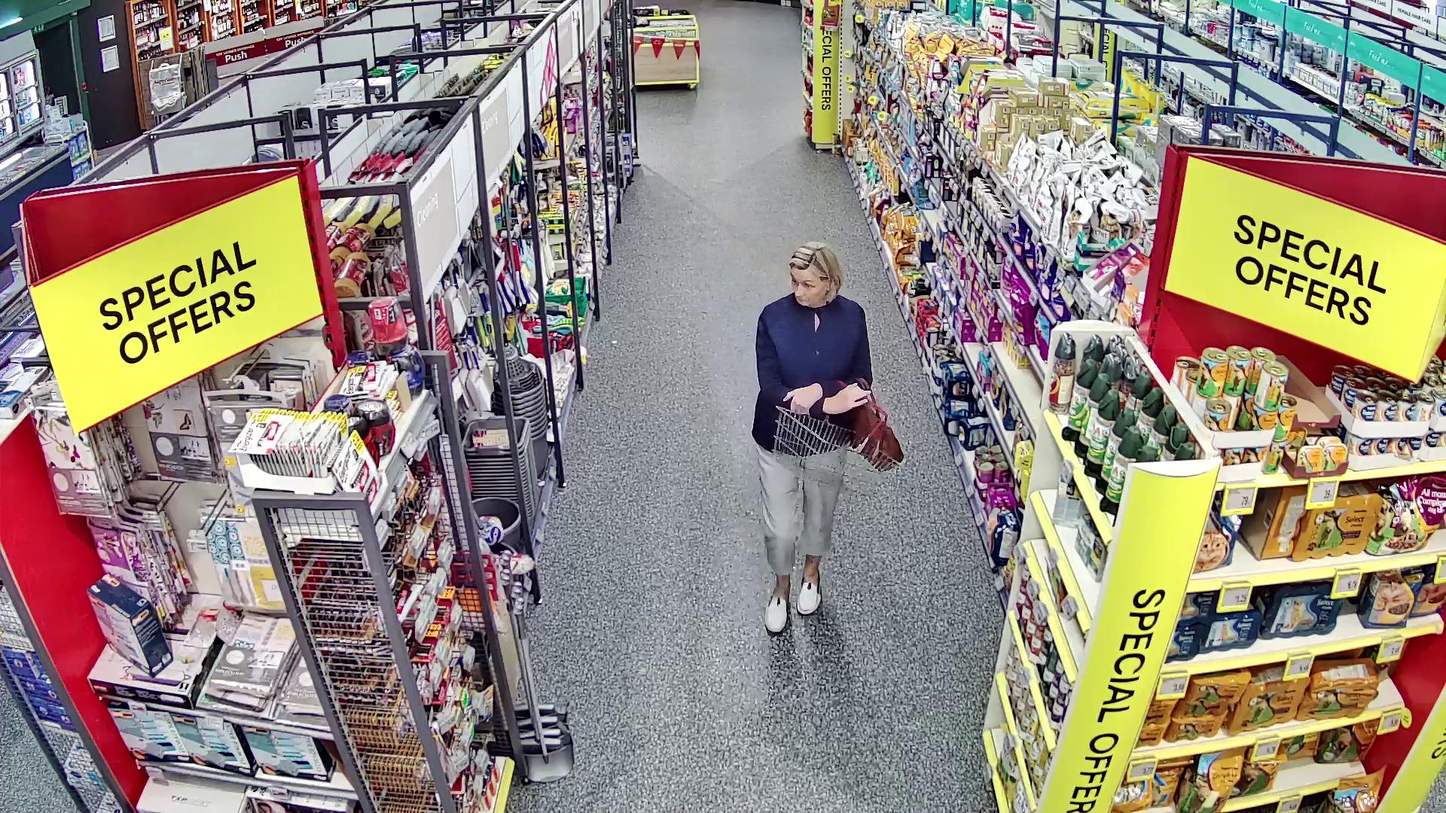backpack-or-handbag: (851, 378, 905, 473)
empty-basket: (773, 404, 904, 503)
person: (753, 242, 873, 635)
person-with-basket-trolly-and-backpack-handbag: (754, 241, 906, 634)
